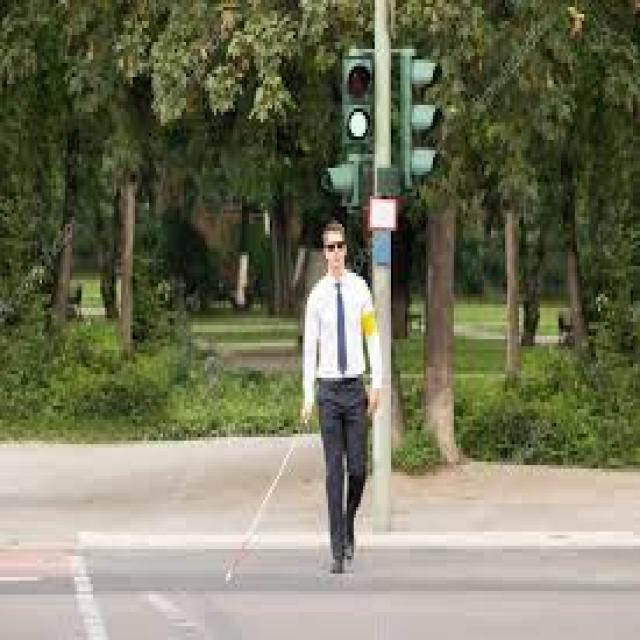Pedestrians: (296, 224, 384, 584)
